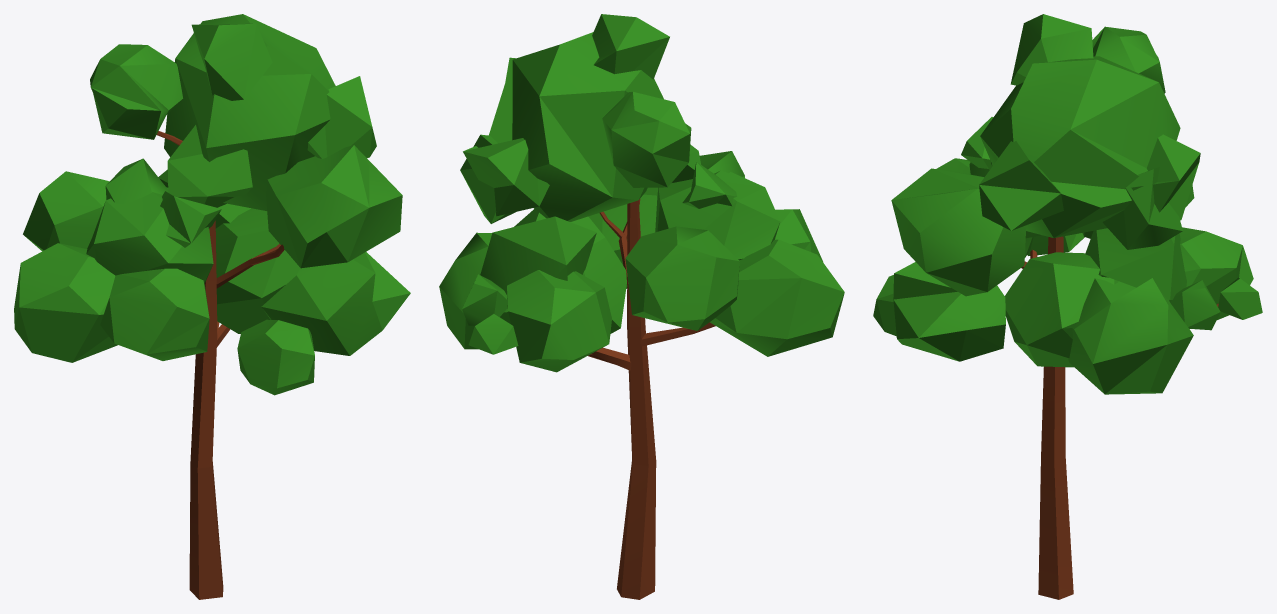
Rendered from Tree_003_Smooth.FBX.
3 renders of one model, left to right at view 1: azimuth 30°, elevation 25°; view 2: azimuth 150°, elevation 25°; view 3: azimuth 270°, elevation 25°, orthographic.
Parts seen in each view (by area): view 1: Leaf_004, Leaf_005, Leaf_002, Leaf_008, Leaf_011, Tree_trunk, Leaf_012, Leaf_001, Leaf_006, Leaf_014, Leaf_007, Leaf_003; view 2: Leaf_004, Leaf_008, Tree_trunk, Leaf_007, Leaf_013, Leaf_002, Leaf_001, Leaf_003, Leaf_009, Leaf_006, Leaf_011, Leaf_010 (+2 smaller); view 3: Leaf_004, Leaf_005, Leaf_009, Leaf_011, Leaf_006, Tree_trunk, Leaf_003, Leaf_013, Leaf_001, Leaf_010, Leaf_015, Leaf_002 (+2 smaller).
Boxes of the visible parts, x1,y1,x2,y2 form: Leaf_004: [164, 14, 376, 210]; Leaf_005: [266, 145, 402, 268]; Leaf_002: [86, 158, 221, 283]; Leaf_008: [14, 243, 117, 362]; Leaf_011: [261, 252, 410, 355]; Tree_trunk: [156, 131, 284, 599]; Leaf_012: [100, 268, 209, 360]; Leaf_001: [90, 44, 182, 139]; Leaf_006: [215, 208, 300, 333]; Leaf_014: [237, 319, 314, 395]; Leaf_007: [23, 171, 109, 251]; Leaf_003: [158, 169, 250, 228]; Leaf_004: [460, 14, 700, 223]; Leaf_008: [710, 239, 844, 356]; Tree_trunk: [588, 199, 715, 599]; Leaf_007: [625, 226, 739, 330]; Leaf_013: [507, 270, 611, 372]; Leaf_002: [655, 151, 780, 260]; Leaf_001: [602, 91, 691, 187]; Leaf_003: [480, 216, 596, 294]; Leaf_009: [439, 232, 510, 349]; Leaf_006: [514, 209, 626, 333]; Leaf_011: [588, 194, 657, 288]; Leaf_010: [462, 274, 507, 325]; Leaf_004: [979, 14, 1200, 249]; Leaf_005: [891, 168, 1026, 296]; Leaf_009: [1068, 278, 1193, 394]; Leaf_011: [893, 262, 1005, 361]; Leaf_006: [1005, 252, 1118, 367]; Tree_trunk: [1021, 236, 1218, 599]; Leaf_003: [1085, 228, 1186, 299]; Leaf_013: [1179, 227, 1253, 319]; Leaf_001: [1092, 26, 1165, 93]; Leaf_010: [1169, 280, 1220, 330]; Leaf_015: [1218, 277, 1262, 319]; Leaf_002: [961, 117, 1041, 238].
Size of the model in its own units: 31.91 by 50.2 by 30.57.
